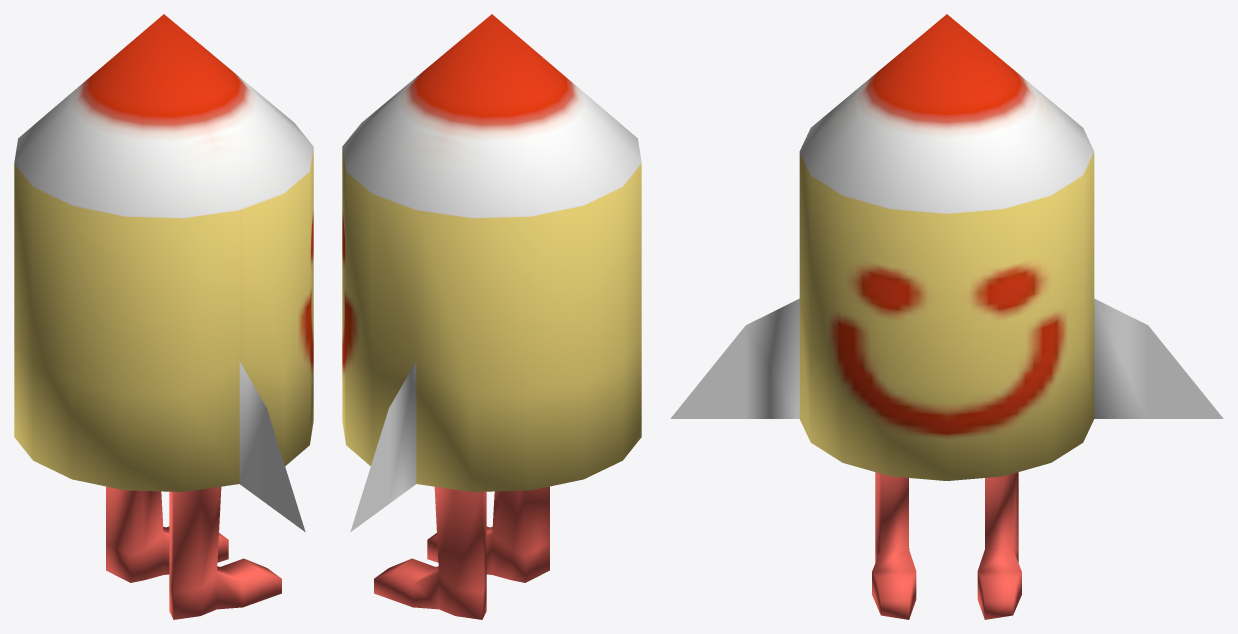
File: ハロトレ.glb
3 views of the same model, side by side, from view 1: azimuth 30°, elevation 25°; view 2: azimuth 150°, elevation 25°; view 3: azimuth 270°, elevation 25° (orthographic). The views are drawn at different scales.
Parts seen in each view (by area): view 1: Cylinder; view 2: Cylinder; view 3: Cylinder.
Part boxes in pixels (x1,y1,x2,y2): Cylinder: (14, 14, 313, 619); Cylinder: (342, 14, 641, 619); Cylinder: (670, 14, 1223, 619).
Bounding box in the file's own units: 2 × 4.24 × 3.75.
Materials: 3 (1 with a texture image).
